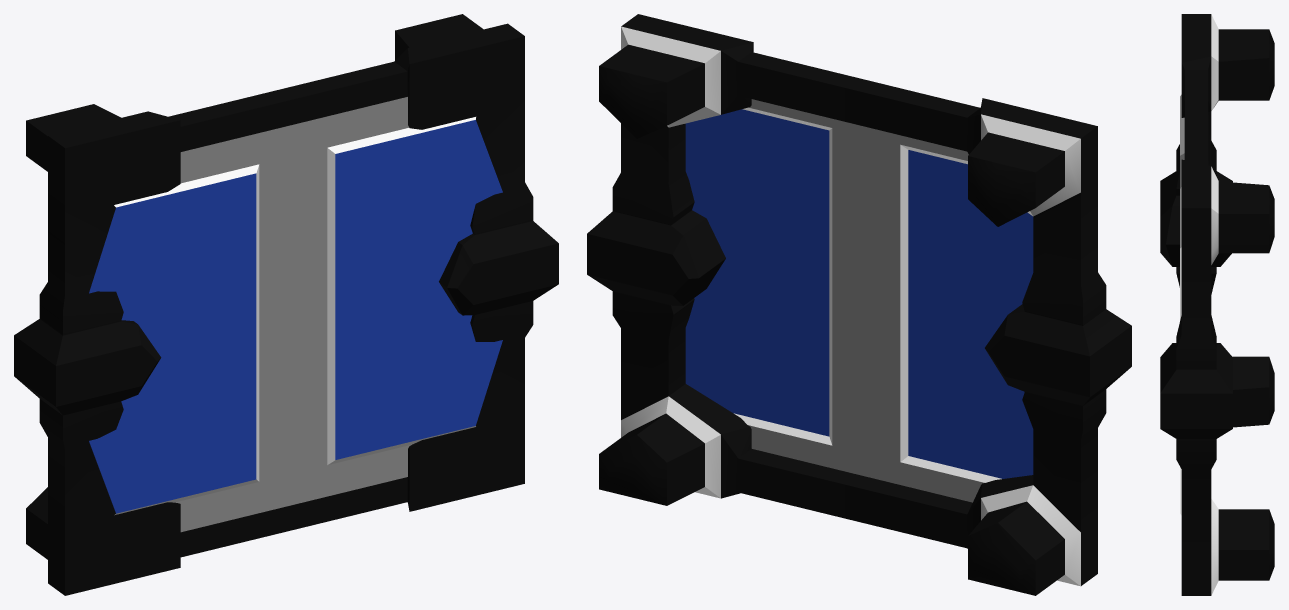
The model's file is Ending_square_01.FBX.
3 views of the same model, side by side, from view 1: azimuth 30°, elevation 25°; view 2: azimuth 150°, elevation 25°; view 3: azimuth 270°, elevation 25° (orthographic). The views are drawn at different scales.
Visible parts, largest first — view 1: Ending00; view 2: Ending00; view 3: Ending00.
Boxes of the visible parts, left/top/right/bottom form: Ending00: left=14, top=14, right=558, bottom=595; Ending00: left=587, top=14, right=1131, bottom=595; Ending00: left=1160, top=14, right=1274, bottom=595.
Size of the model in its own units: 819 by 696 by 187.
